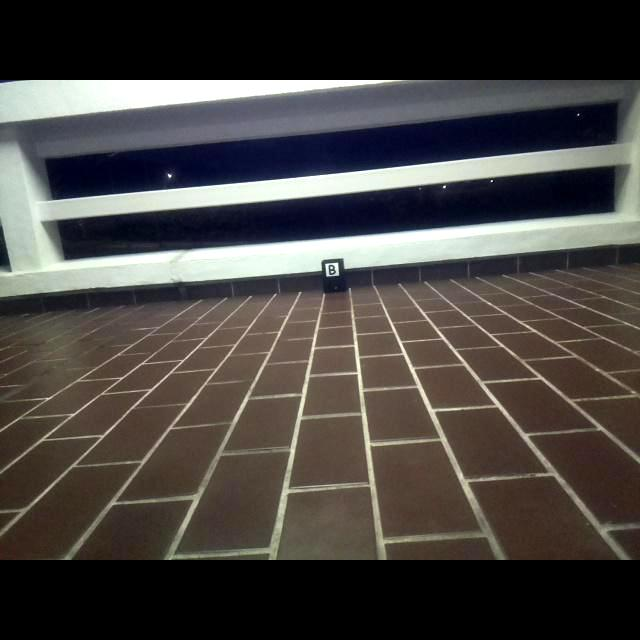B: (327, 264, 336, 276)
